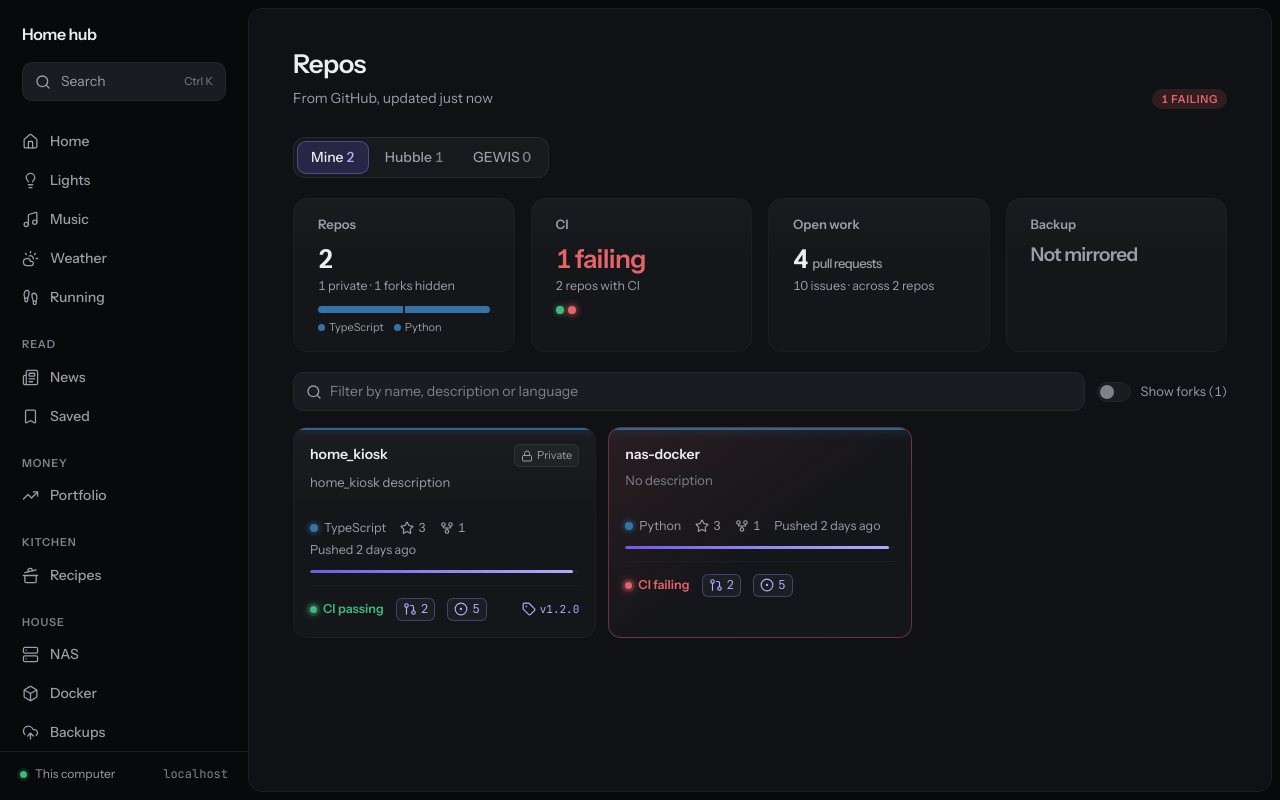
it: ReposPage › filters by name, description or language
Type "typescript" into the search field named "Filter repos" at (701, 392), box [330,381,1072,402]
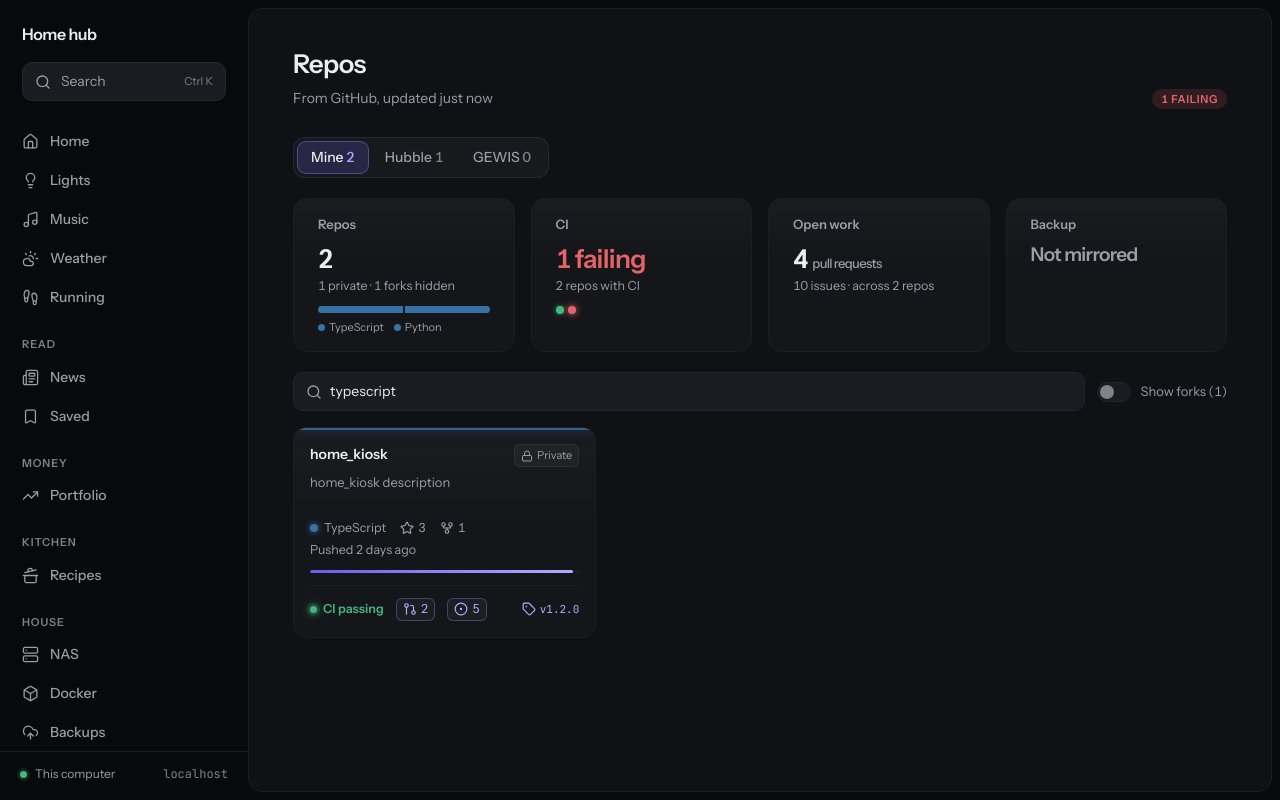
Replace the text in the search field named "Filter repos" with "nothing-like-this" at (701, 392), box [330,381,1072,402]
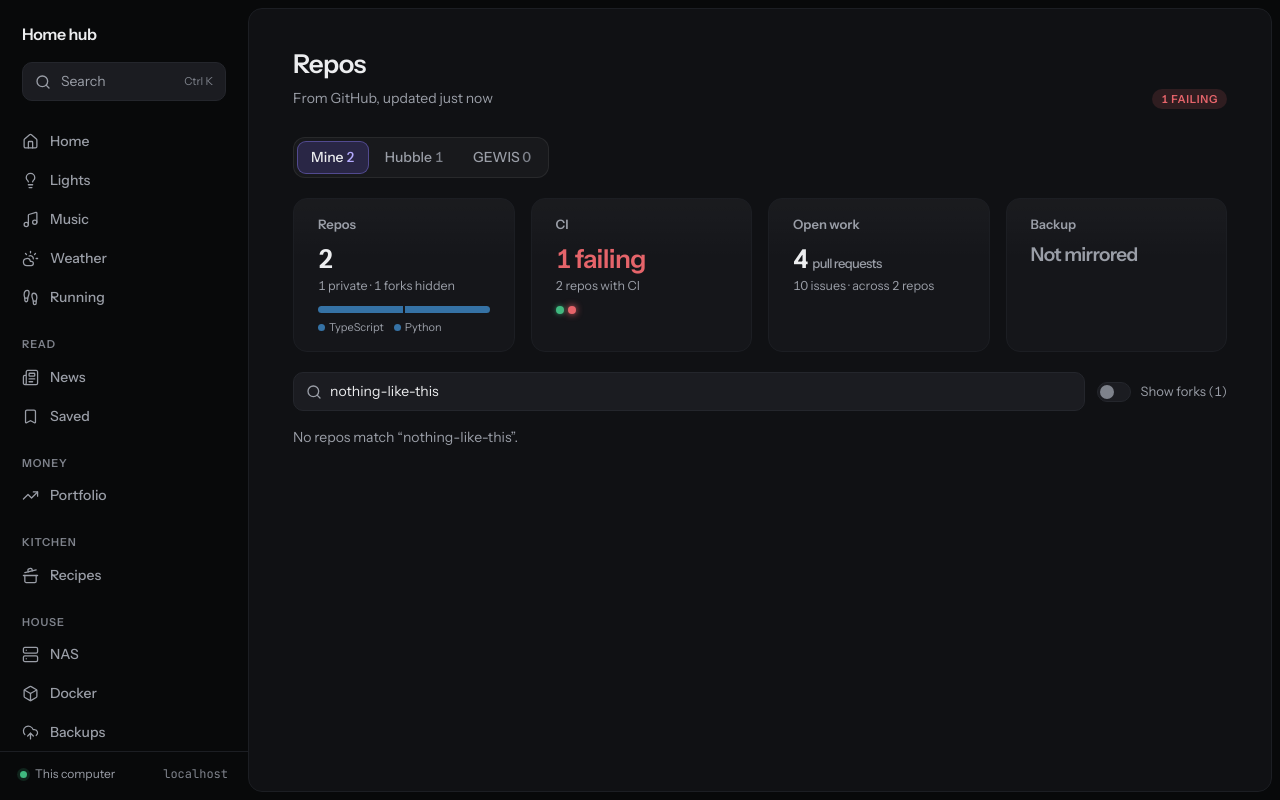
Check: the text "No repos match “nothing-like-this”." is shown, box [293,428,518,446]
